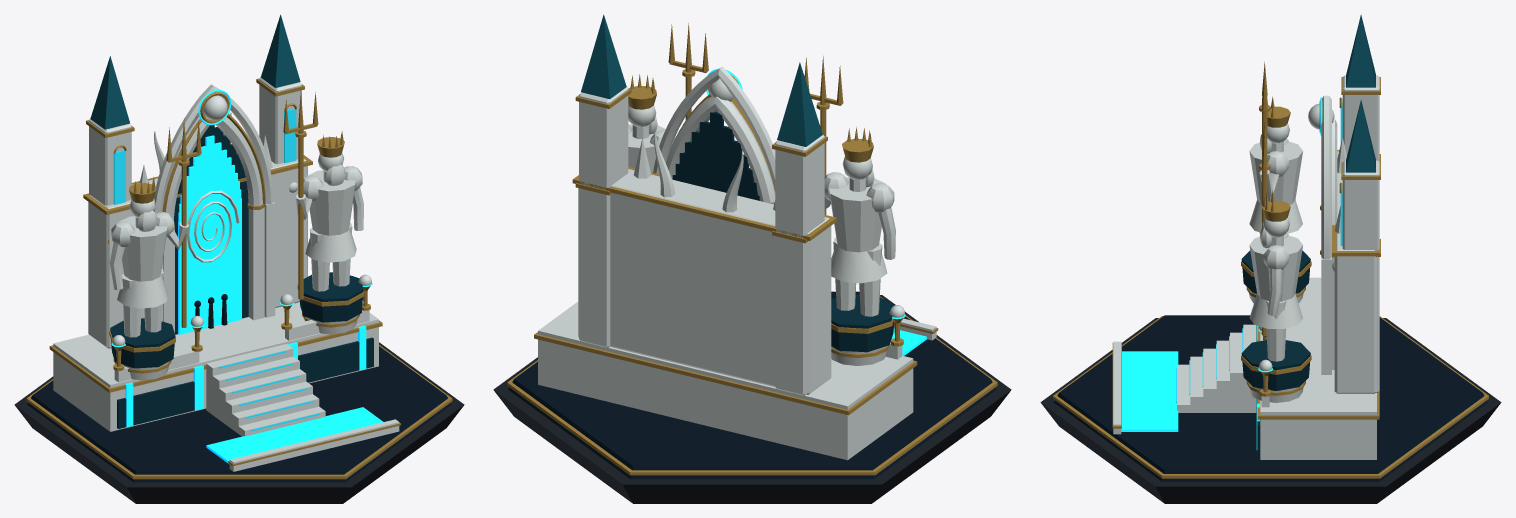
File: poseidon_tutor_structure_5.glb
3 views of the same model, side by side, from view 1: azimuth 30°, elevation 25°; view 2: azimuth 150°, elevation 25°; view 3: azimuth 270°, elevation 25° (orthographic). The views are drawn at different scales.
Parts seen in each view (by area): view 1: poseidon_tutor_structure_5; view 2: poseidon_tutor_structure_5; view 3: poseidon_tutor_structure_5.
Boxes of the visible parts, x1=… form: poseidon_tutor_structure_5: x1=14, y1=14, x2=464, y2=503; poseidon_tutor_structure_5: x1=493, y1=14, x2=1011, y2=503; poseidon_tutor_structure_5: x1=1040, y1=14, x2=1501, y2=503.
Bounding box in the file's own units: 1.51 × 1.54 × 1.74.
Materials: 1 (1 with a texture image).
